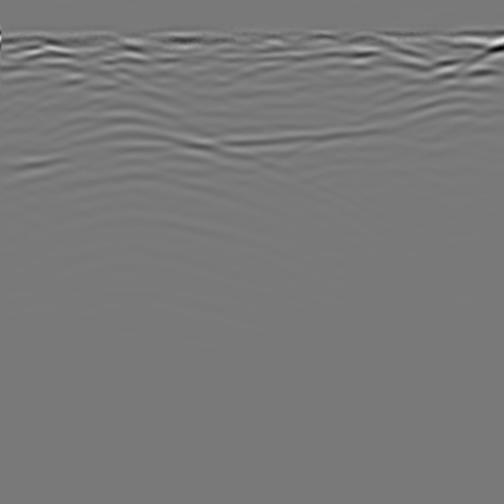hyperbola: (18, 98, 264, 205)
